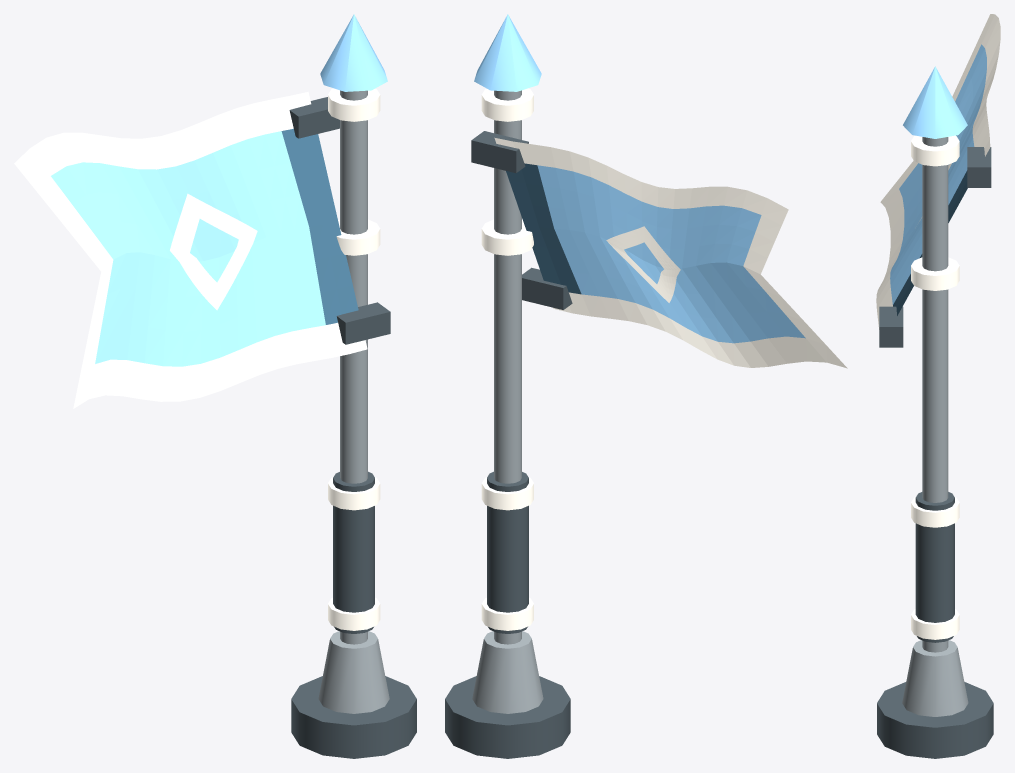
File: flag-blue.glb
The picture shows the model from 3 angles, left to right: view 1: azimuth 30°, elevation 25°; view 2: azimuth 150°, elevation 25°; view 3: azimuth 270°, elevation 25°; orthographic projection. The views are drawn at different scales.
Parts seen in each view (by area): view 1: static:objective-blue, static:objective-ivory, static:objective-carbon, static:objective-steel, static:objective-blue-inset; view 2: static:objective-blue, static:objective-ivory, static:objective-carbon, static:objective-steel, static:objective-blue-inset; view 3: static:objective-steel, static:objective-carbon, static:objective-ivory, static:objective-blue, static:objective-blue-inset.
Part boxes in pixels (left/top/right/bottom): static:objective-blue: left=51, top=14, right=387, bottom=366; static:objective-ivory: left=14, top=88, right=380, bottom=630; static:objective-carbon: left=289, top=97, right=416, bottom=758; static:objective-steel: left=318, top=90, right=389, bottom=713; static:objective-blue-inset: left=281, top=128, right=358, bottom=324; static:objective-blue: left=474, top=14, right=805, bottom=343; static:objective-ivory: left=481, top=88, right=847, bottom=630; static:objective-carbon: left=445, top=131, right=572, bottom=758; static:objective-steel: left=472, top=90, right=543, bottom=713; static:objective-blue-inset: left=506, top=163, right=581, bottom=294; static:objective-steel: left=902, top=137, right=968, bottom=716; static:objective-carbon: left=877, top=147, right=993, bottom=758; static:objective-ivory: left=876, top=14, right=1000, bottom=639; static:objective-blue: left=890, top=44, right=986, bottom=304; static:objective-blue-inset: left=893, top=170, right=967, bottom=315.
Size of the model in its own units: 0.57 by 1.07 by 0.1808.
